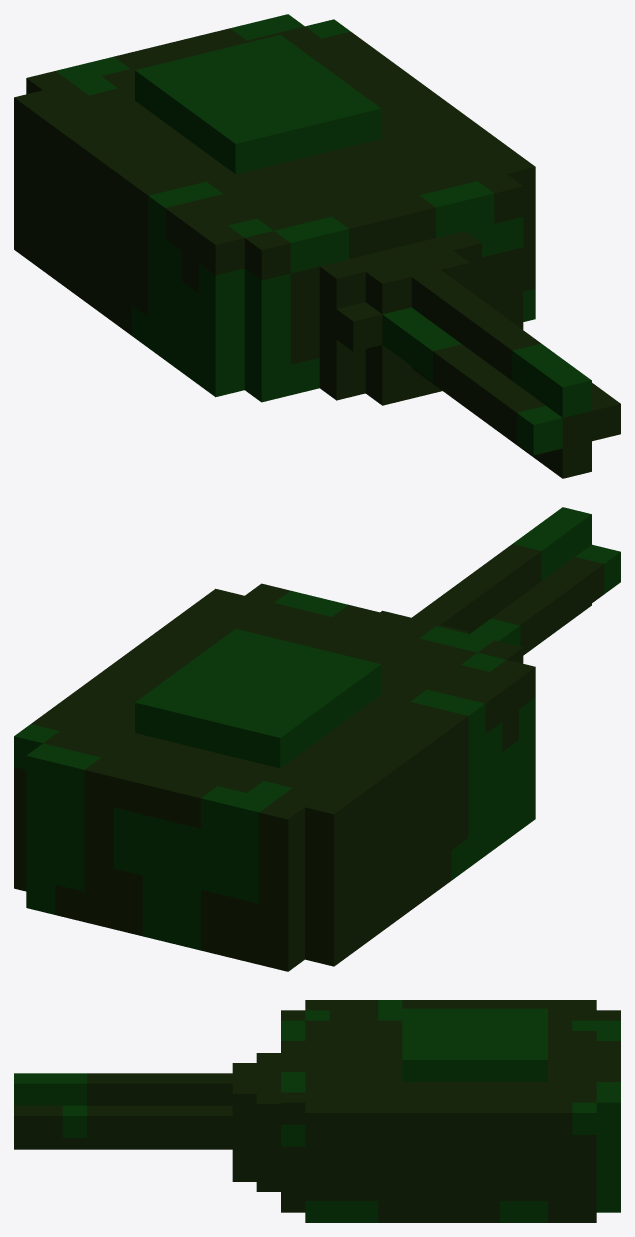
Rendered from tankHead.obj.
The picture shows the model from 3 angles, top to bottom: view 1: azimuth 30°, elevation 25°; view 2: azimuth 150°, elevation 25°; view 3: azimuth 270°, elevation 25°; orthographic projection. The views are drawn at different scales.
Size of the model in its own units: 1.1 by 0.6 by 2.5.
Materials: 1 (1 with a texture image).
